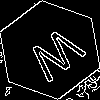W: (24, 25, 94, 91)
